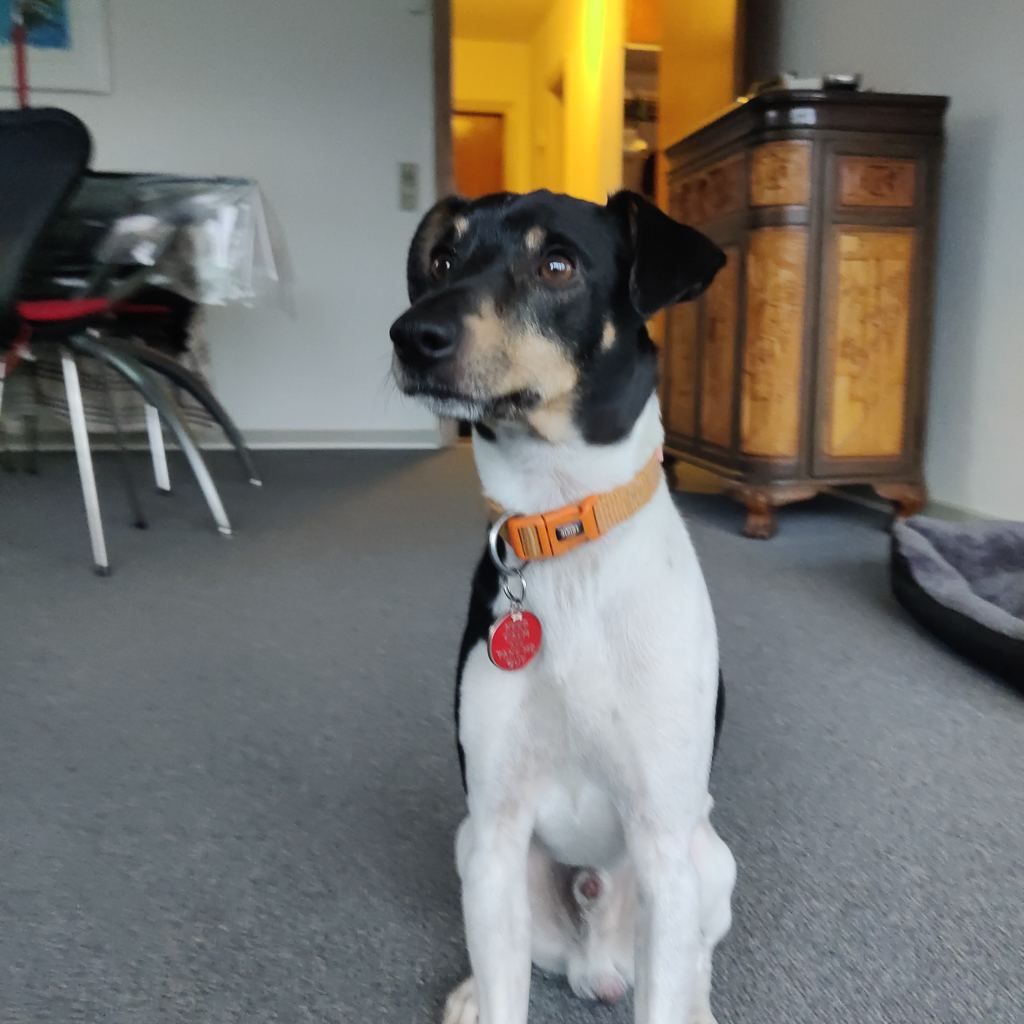Dog: (340, 163, 793, 1024)
